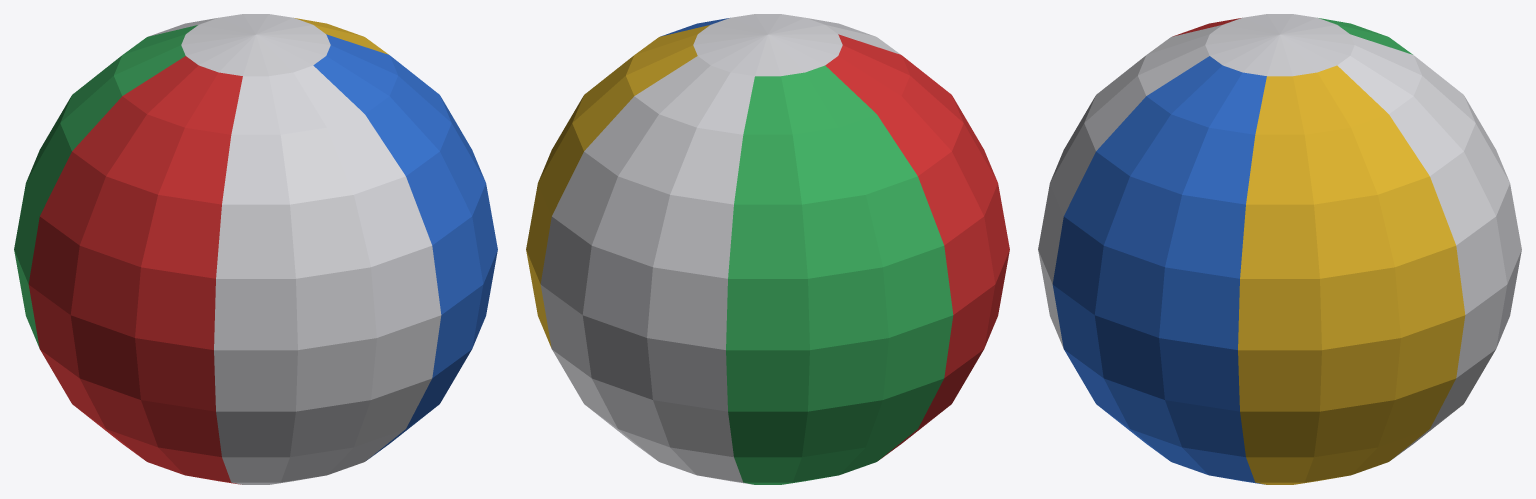
The model's file is Prop_BeachBall.fbx.
3 renders of one model, left to right at view 1: azimuth 30°, elevation 25°; view 2: azimuth 150°, elevation 25°; view 3: azimuth 270°, elevation 25°, orthographic.
Visible parts, largest first — view 1: Body; view 2: Body; view 3: Body.
Part boxes in pixels (x1,y1,x2,y2): Body: [14, 14, 497, 484]; Body: [526, 14, 1009, 484]; Body: [1038, 14, 1521, 484].
Size of the model in its own units: 1.87 by 1.86 by 1.9.
